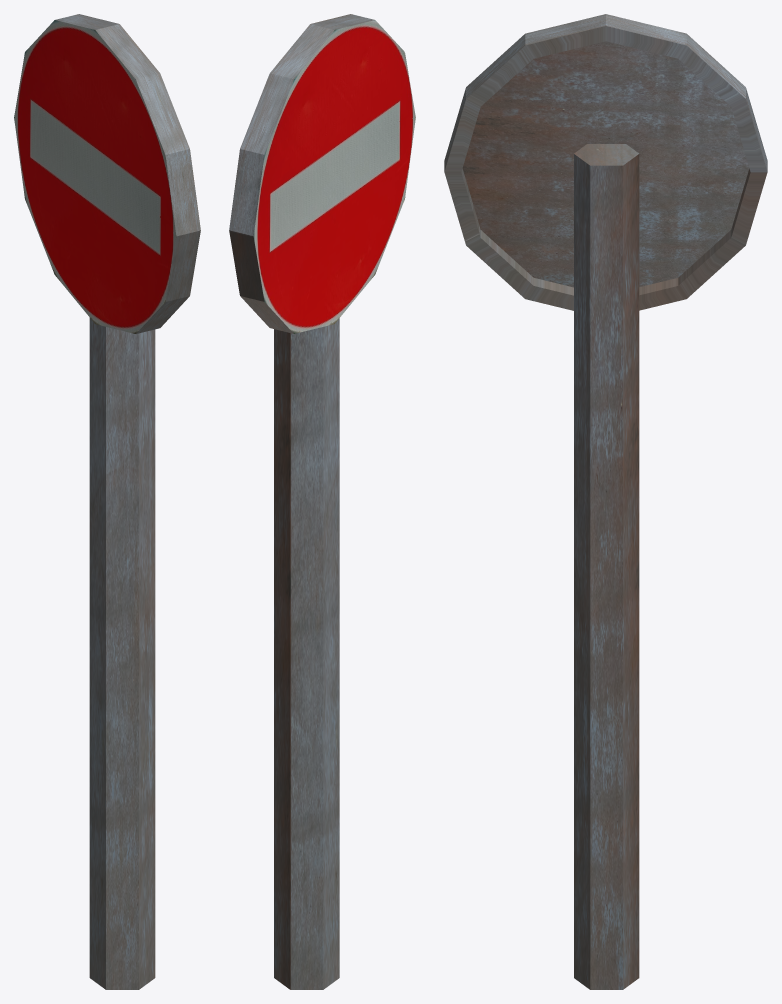
Rendered from panneau_sens_interdit.fbx.
3 views of the same model, side by side, from view 1: azimuth 30°, elevation 25°; view 2: azimuth 150°, elevation 25°; view 3: azimuth 270°, elevation 25° (orthographic).
Parts seen in each view (by area): view 1: sens_interdit.001; view 2: sens_interdit.001; view 3: sens_interdit.001.
Part boxes in pixels (bbox=[...]): sens_interdit.001: bbox=[14, 14, 200, 989]; sens_interdit.001: bbox=[229, 14, 415, 989]; sens_interdit.001: bbox=[444, 14, 767, 989].
Bounding box in the file's own units: 1.21 × 21.11 × 6.5.
2 materials, 2 textured.
